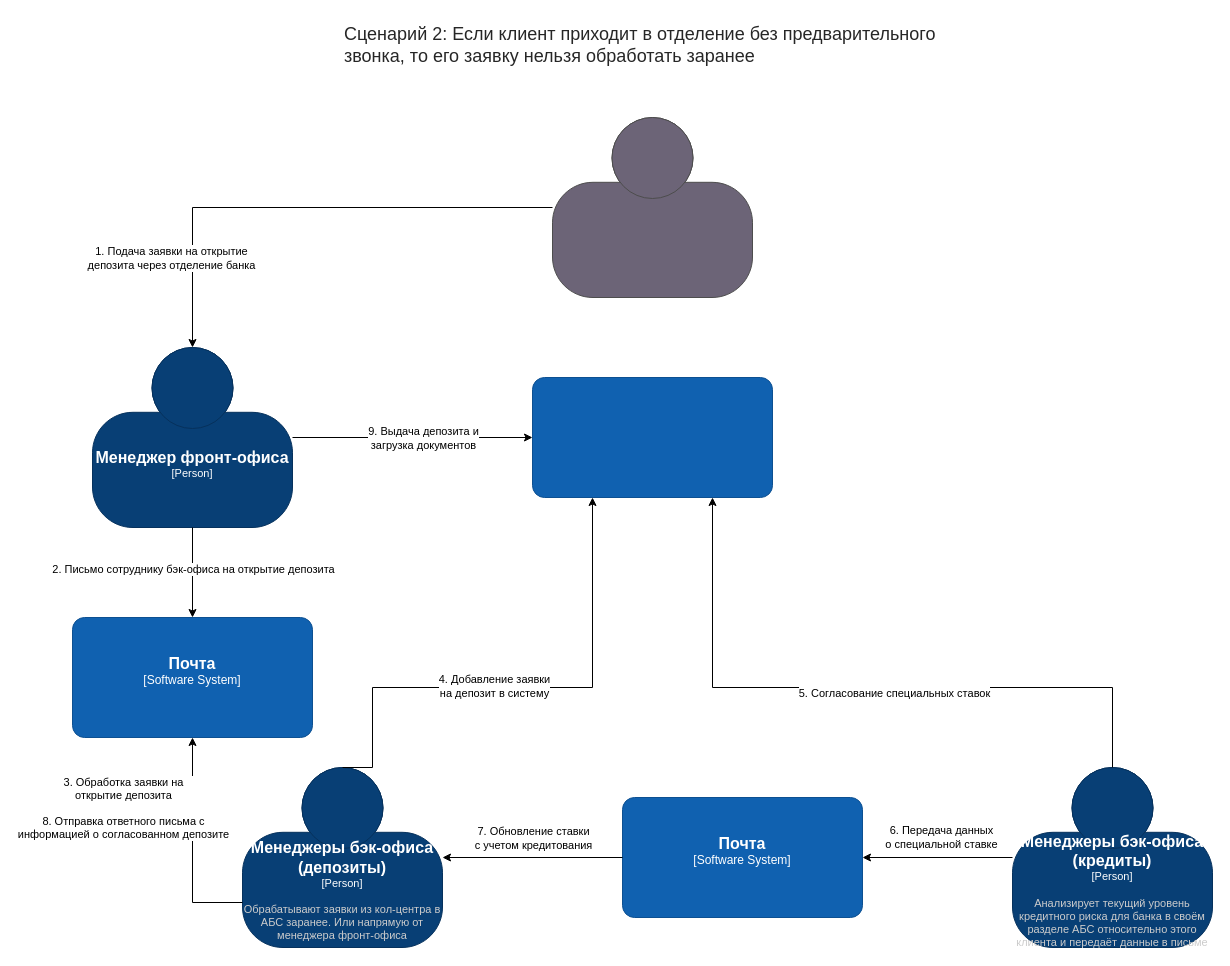
Some shapes in this 1230 by 966 pixel diagram are drawn without their labels. The box of each missing label's shape, as (x1, y1, x2, y2) in pixels:
АБС [Software System]: (532, 376, 772, 498)
Клиент банка [Person]: (552, 116, 752, 298)
